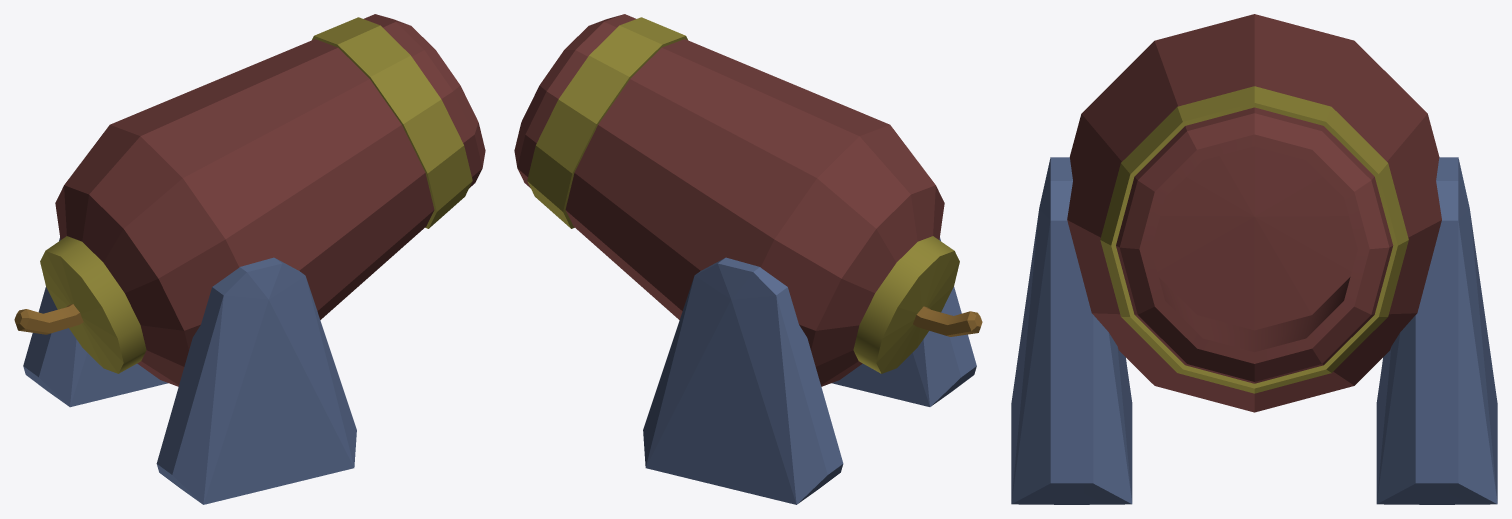
File: Cannon.fbx
3 views of the same model, side by side, from view 1: azimuth 30°, elevation 25°; view 2: azimuth 150°, elevation 25°; view 3: azimuth 270°, elevation 25° (orthographic). The views are drawn at different scales.
Visible parts, largest first — view 1: pCube217; view 2: pCube217; view 3: pCube217.
Part boxes in pixels (x1,y1,x2,y2): pCube217: (14,14,485,504); pCube217: (514,14,982,504); pCube217: (1011,14,1497,504).
Size of the model in its own units: 12.19 by 9.18 by 8.45.
